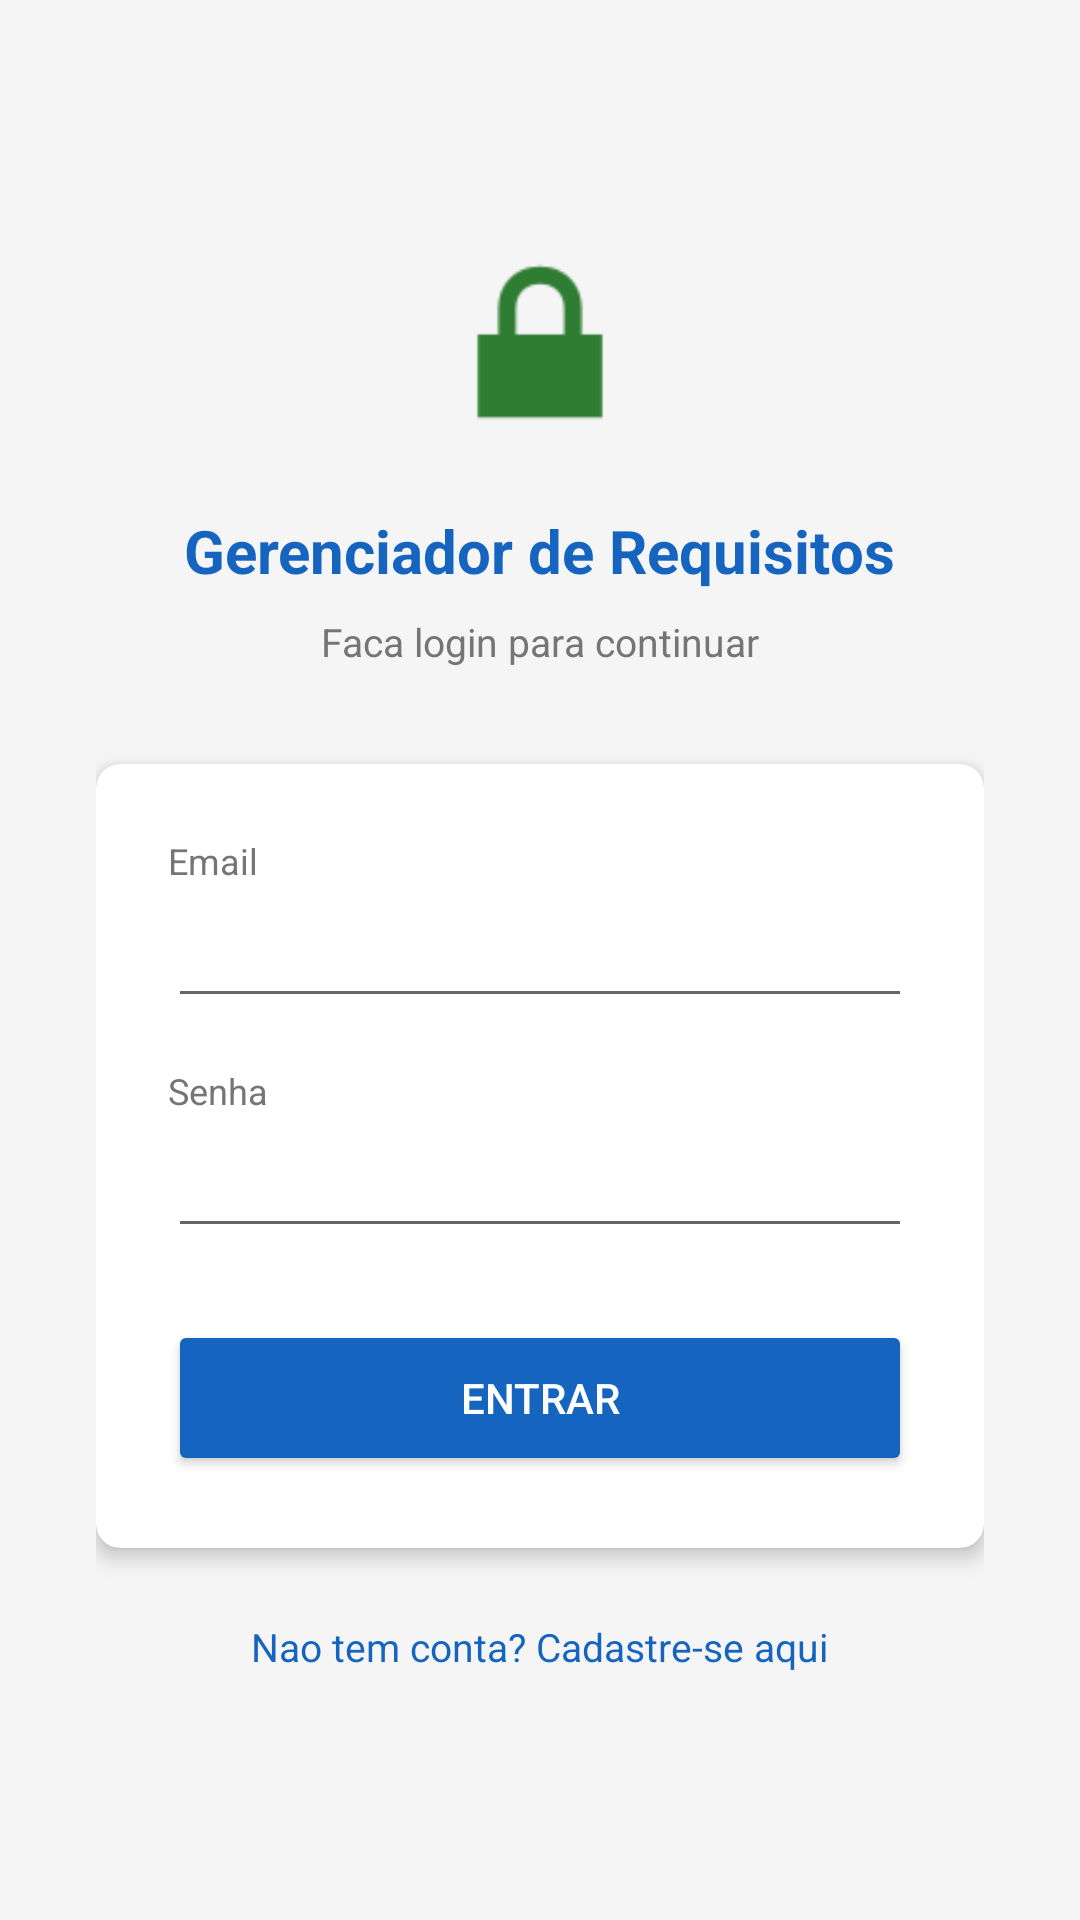

Screen size 1080w x 1920h. Icon name, then its box in pixels as (x1, y1, x2, y2):
lock: (477, 265, 603, 419)
